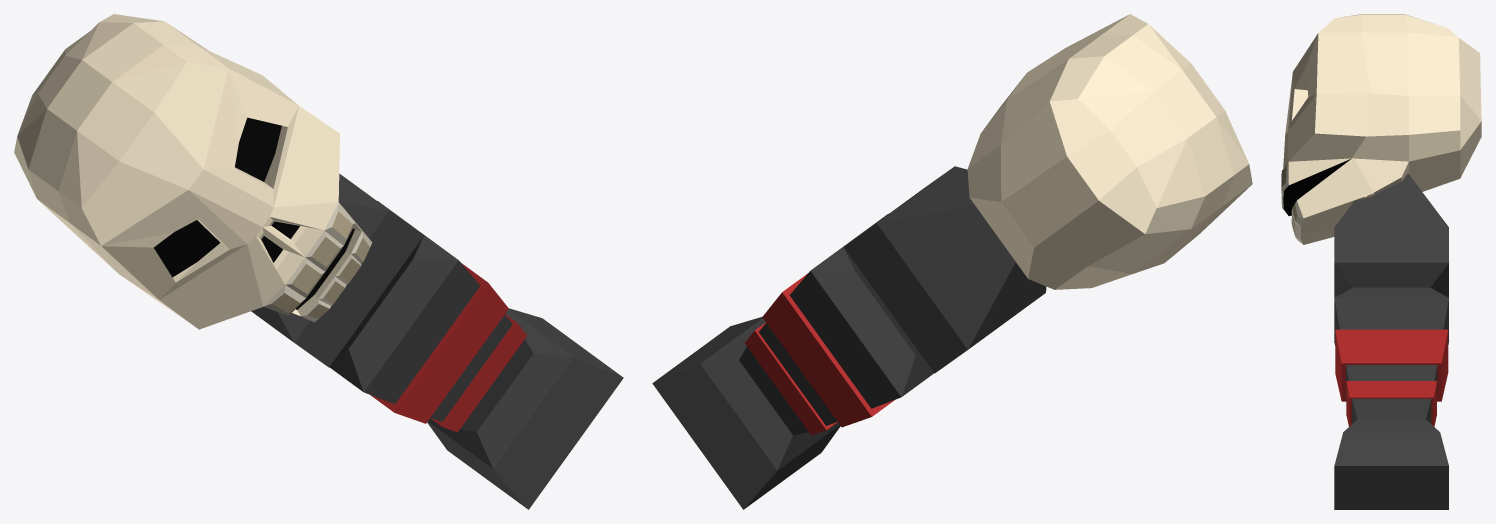
File: LowPoly_Tower.fbx
3 renders of one model, left to right at view 1: azimuth 30°, elevation 25°; view 2: azimuth 150°, elevation 25°; view 3: azimuth 270°, elevation 25°, orthographic. The views are drawn at different scales.
Parts seen in each view (by area): view 1: Pillar01RedD__1_; view 2: Pillar01RedD__1_; view 3: Pillar01RedD__1_.
Part boxes in pixels (x1,y1,x2,y2): Pillar01RedD__1_: (14, 14, 623, 509); Pillar01RedD__1_: (652, 14, 1252, 509); Pillar01RedD__1_: (1281, 14, 1481, 509).
Size of the model in its own units: 1847 by 1730 by 833.
